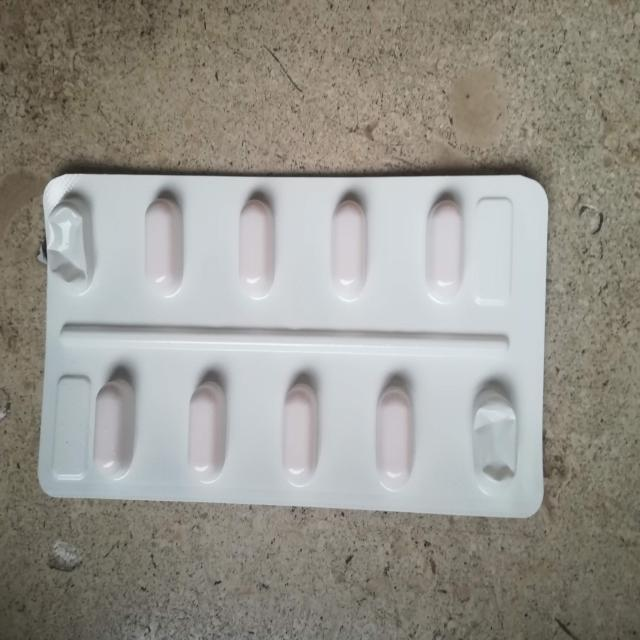Empty: (460, 370, 526, 506), (46, 189, 100, 296)
Pill: (366, 366, 427, 494), (275, 370, 331, 493), (421, 183, 474, 304), (180, 371, 232, 494), (86, 368, 138, 486), (322, 188, 375, 302), (134, 189, 185, 299), (233, 190, 283, 301)
